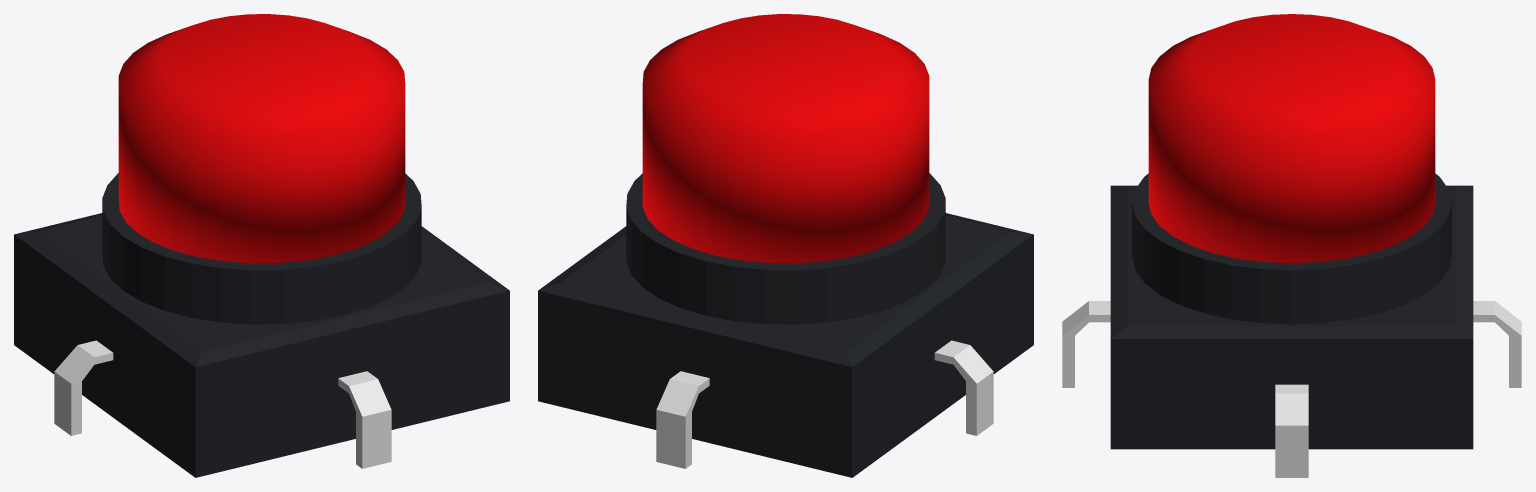
File: Button.fbx
The picture shows the model from 3 angles, left to right: view 1: azimuth 30°, elevation 25°; view 2: azimuth 150°, elevation 25°; view 3: azimuth 270°, elevation 25°; orthographic projection.
Parts seen in each view (by area): view 1: Cylinder; view 2: Cylinder; view 3: Cylinder.
Part boxes in pixels (x1=…): Cylinder: x1=14, y1=14, x2=509, y2=477; Cylinder: x1=538, y1=14, x2=1033, y2=477; Cylinder: x1=1062, y1=14, x2=1521, y2=477.
Bounding box in the file's own units: 204 × 159 × 204.
